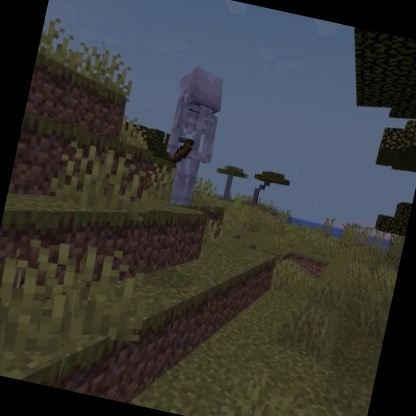skeleton: (148, 59, 234, 217)
